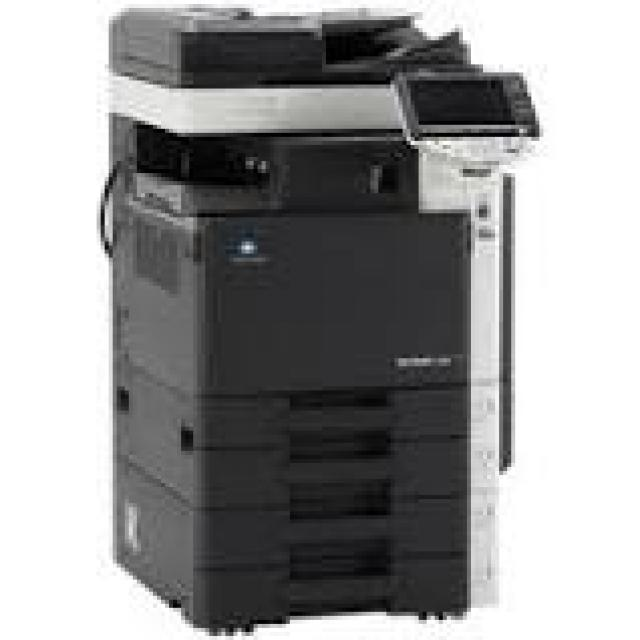printer: (62, 0, 556, 640)
